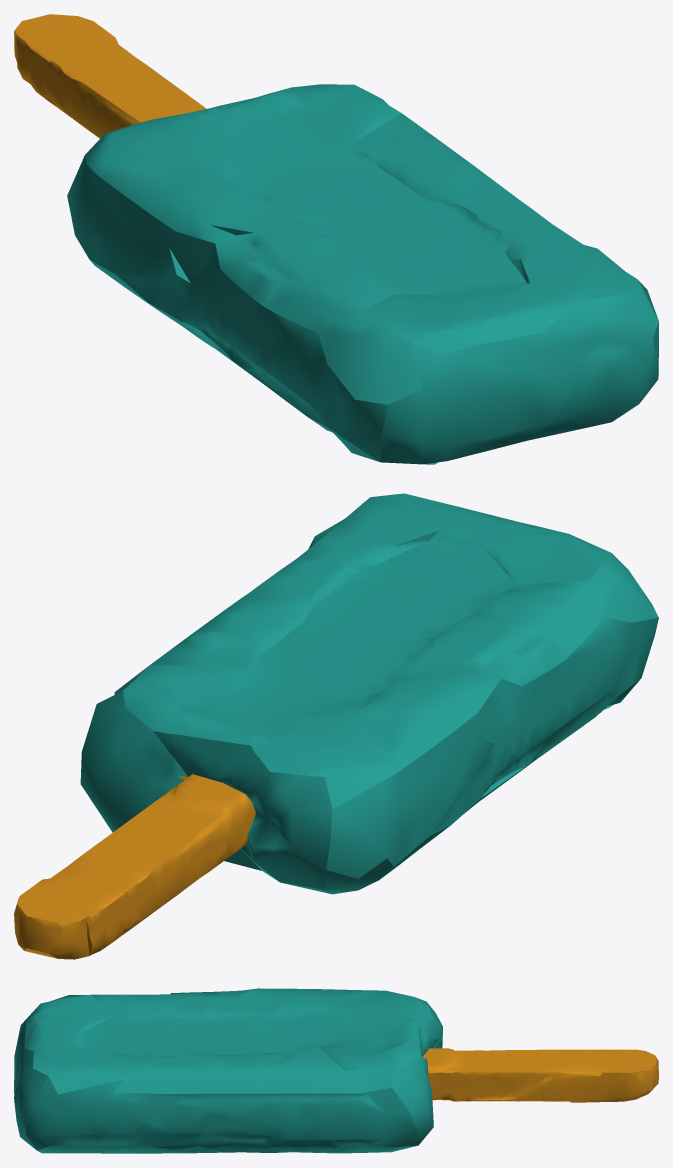
File: segmentation_mesh.glb
3 views of the same model, one above another, from view 1: azimuth 30°, elevation 25°; view 2: azimuth 150°, elevation 25°; view 3: azimuth 270°, elevation 25° (orthographic). The views are drawn at different scales.
Parts seen in each view (by area): view 1: segmentation_map; view 2: segmentation_map; view 3: segmentation_map.
Part boxes in pixels (x1,y1,x2,y2): segmentation_map: (14,14,658,464); segmentation_map: (14,493,658,959); segmentation_map: (14,988,658,1153).
Size of the model in its own units: 0.0517 by 0.023 by 0.1415.
